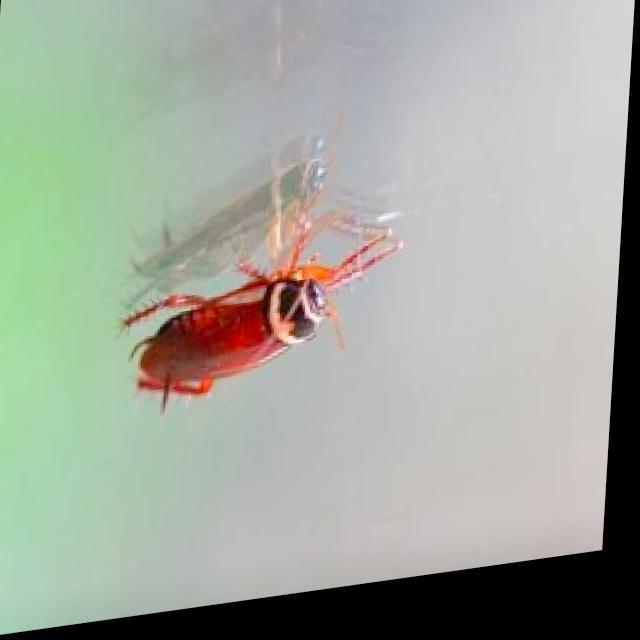cockroach: (113, 131, 408, 415)
